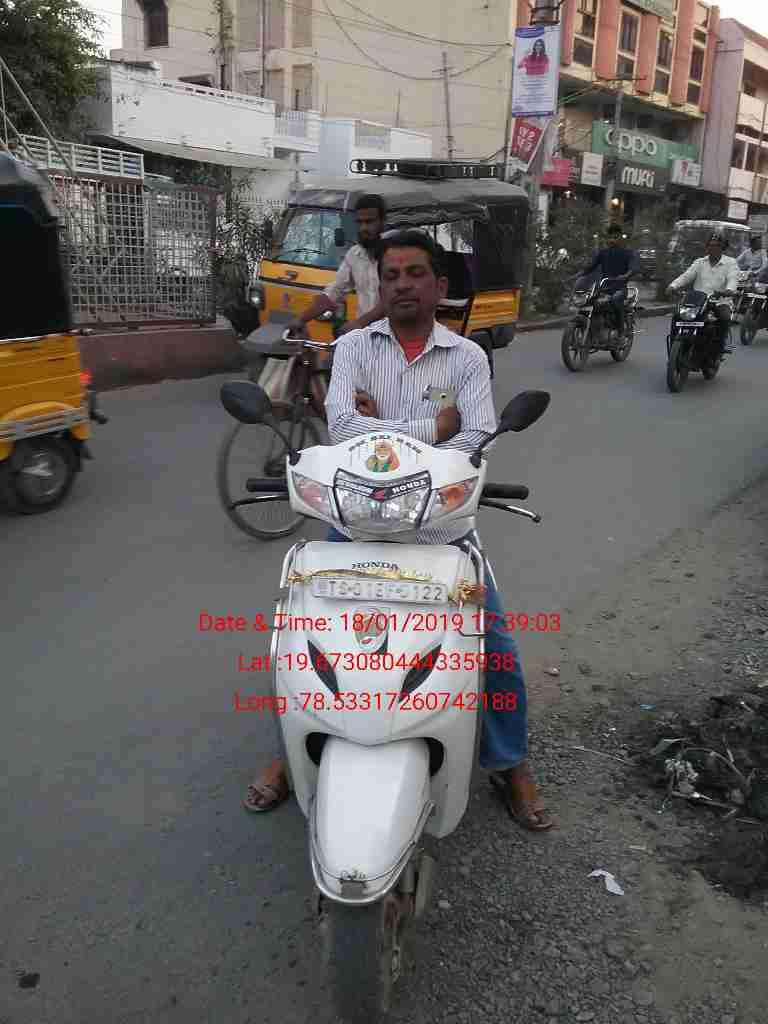plate: (307, 574, 450, 607)
